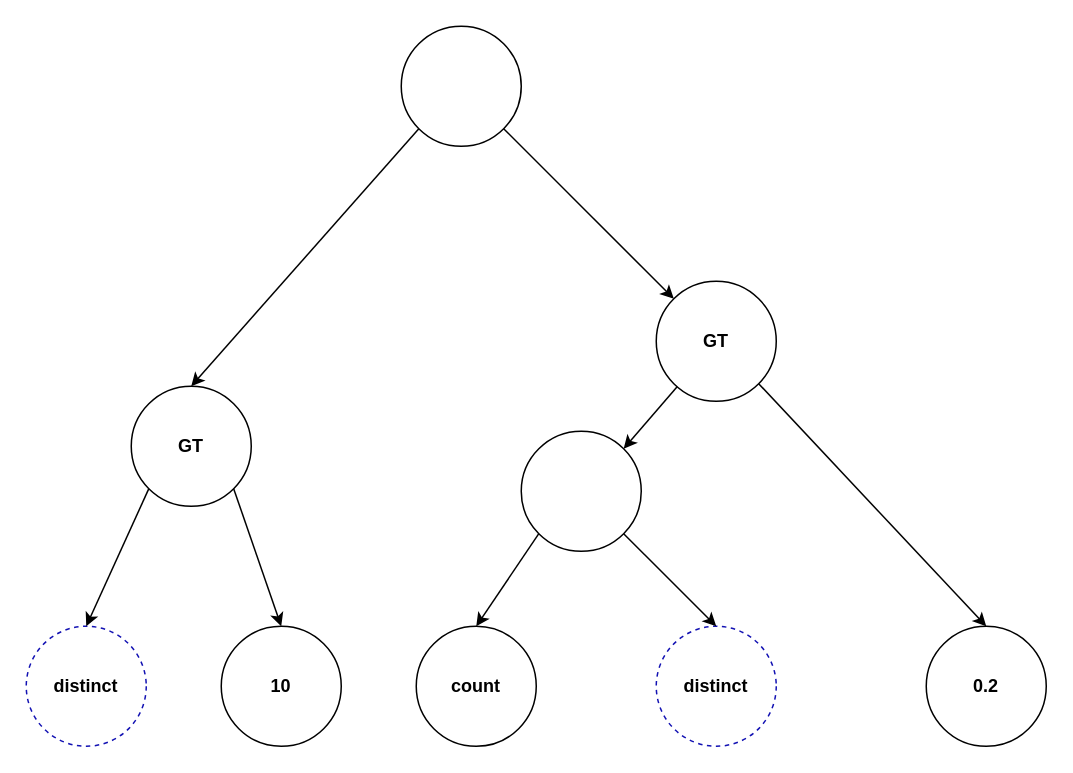
Some shapes in this 1073 by 773 pixel diagram are drawn without their labels. The box of each missing label's shape, as (x1, y1, x2, y2) in pixels:
AND: (400, 25, 521, 146)
DIV: (520, 430, 641, 551)
